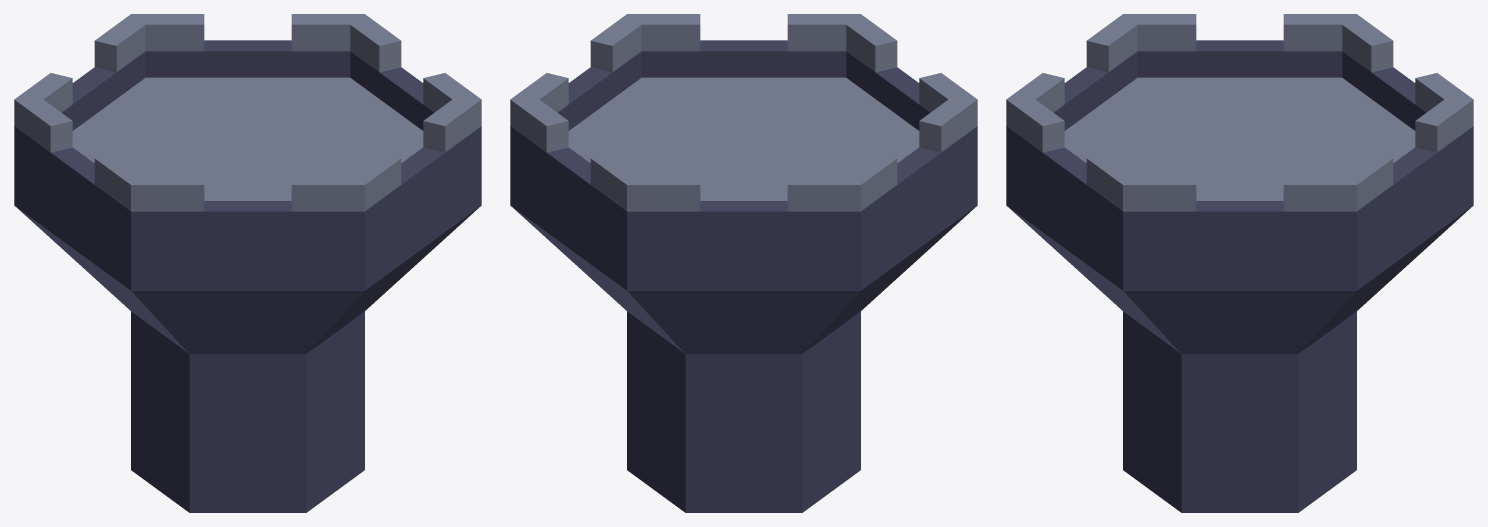
The model's file is Castle-Platform.fbx.
3 views of the same model, side by side, from view 1: azimuth 30°, elevation 25°; view 2: azimuth 150°, elevation 25°; view 3: azimuth 270°, elevation 25° (orthographic).
Visible parts, largest first — view 1: Cylinder, Cylinder.007, Cylinder.005, Cylinder.003, Cylinder.002, Cylinder.001, Cylinder.006, Cylinder.004; view 2: Cylinder, Cylinder.007, Cylinder.004, Cylinder.002, Cylinder.006, Cylinder.005, Cylinder.003, Cylinder.001; view 3: Cylinder, Cylinder.007, Cylinder.006, Cylinder.001, Cylinder.004, Cylinder.003, Cylinder.005, Cylinder.002.
Boxes of the visible parts, left/top/right/bottom form: Cylinder: left=14, top=77, right=481, bottom=512; Cylinder.007: left=14, top=40, right=481, bottom=237; Cylinder.005: left=291, top=153, right=401, bottom=211; Cylinder.003: left=94, top=153, right=204, bottom=211; Cylinder.002: left=94, top=14, right=204, bottom=72; Cylinder.001: left=291, top=14, right=401, bottom=72; Cylinder.006: left=423, top=73, right=481, bottom=152; Cylinder.004: left=14, top=73, right=72, bottom=152; Cylinder: left=510, top=77, right=977, bottom=512; Cylinder.007: left=510, top=40, right=977, bottom=237; Cylinder.004: left=787, top=153, right=897, bottom=211; Cylinder.002: left=590, top=153, right=700, bottom=211; Cylinder.006: left=590, top=14, right=700, bottom=72; Cylinder.005: left=787, top=14, right=897, bottom=72; Cylinder.003: left=919, top=73, right=977, bottom=152; Cylinder.001: left=510, top=73, right=568, bottom=152; Cylinder: left=1006, top=77, right=1473, bottom=512; Cylinder.007: left=1006, top=40, right=1473, bottom=237; Cylinder.006: left=1086, top=153, right=1196, bottom=211; Cylinder.001: left=1283, top=153, right=1393, bottom=211; Cylinder.004: left=1283, top=14, right=1393, bottom=72; Cylinder.003: left=1086, top=14, right=1196, bottom=72; Cylinder.005: left=1006, top=73, right=1064, bottom=152; Cylinder.002: left=1415, top=73, right=1473, bottom=152.
Bounding box in the file's own units: 693 × 700 × 800.
